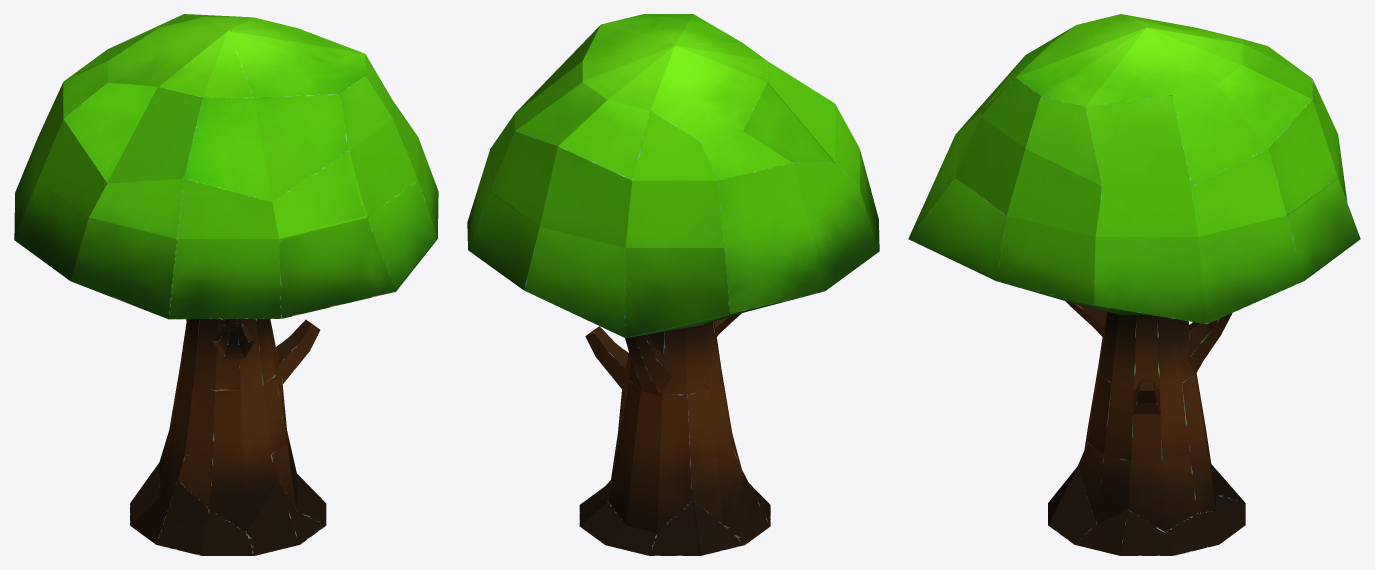
Rendered from TreeMedium.fbx.
3 views of the same model, side by side, from view 1: azimuth 30°, elevation 25°; view 2: azimuth 150°, elevation 25°; view 3: azimuth 270°, elevation 25° (orthographic). The views are drawn at different scales.
Parts seen in each view (by area): view 1: sphere; view 2: sphere; view 3: sphere.
Part boxes in pixels (x1=…): sphere: x1=14, y1=14, x2=438, y2=555; sphere: x1=467, y1=14, x2=879, y2=555; sphere: x1=908, y1=14, x2=1360, y2=555.
Bounding box in the file's own units: 217 × 272 × 229.
Materials: 1 (1 with a texture image).
